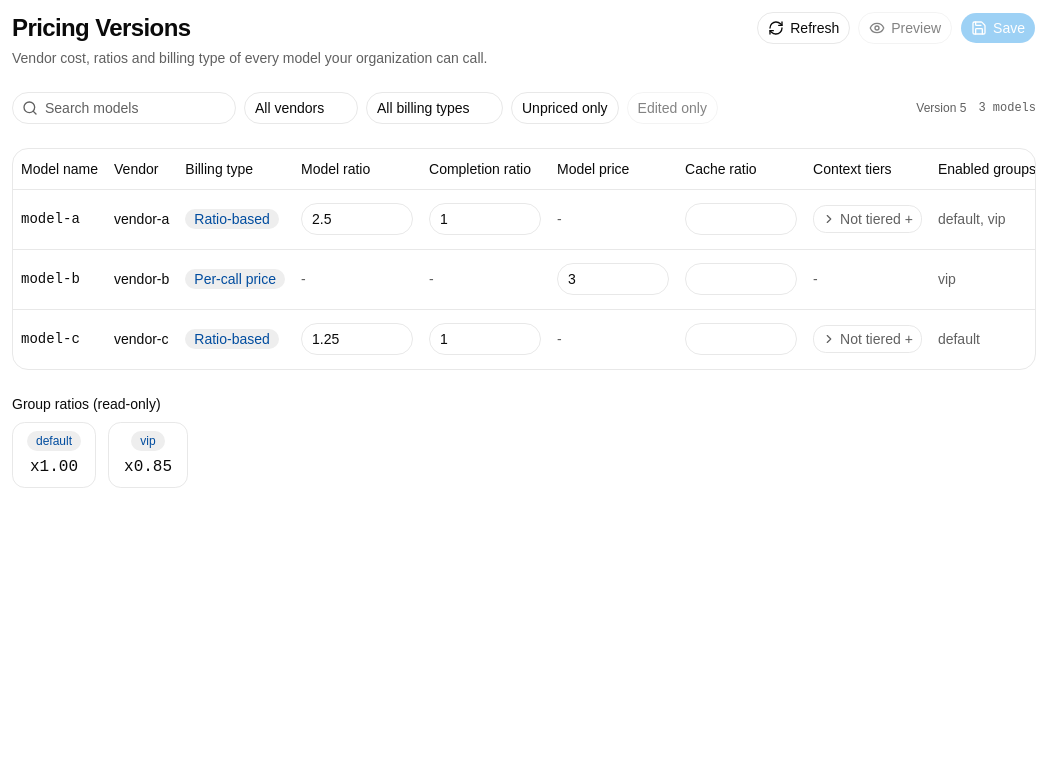
Scenario: loading › a failed refresh keeps the table and says so
expect the table with test id "pricing-table" shows "model-a": met, box [21,211,80,227]
Step 1. Click the button with test id "pricing-refresh" → (804, 28), box [757,12,850,44]
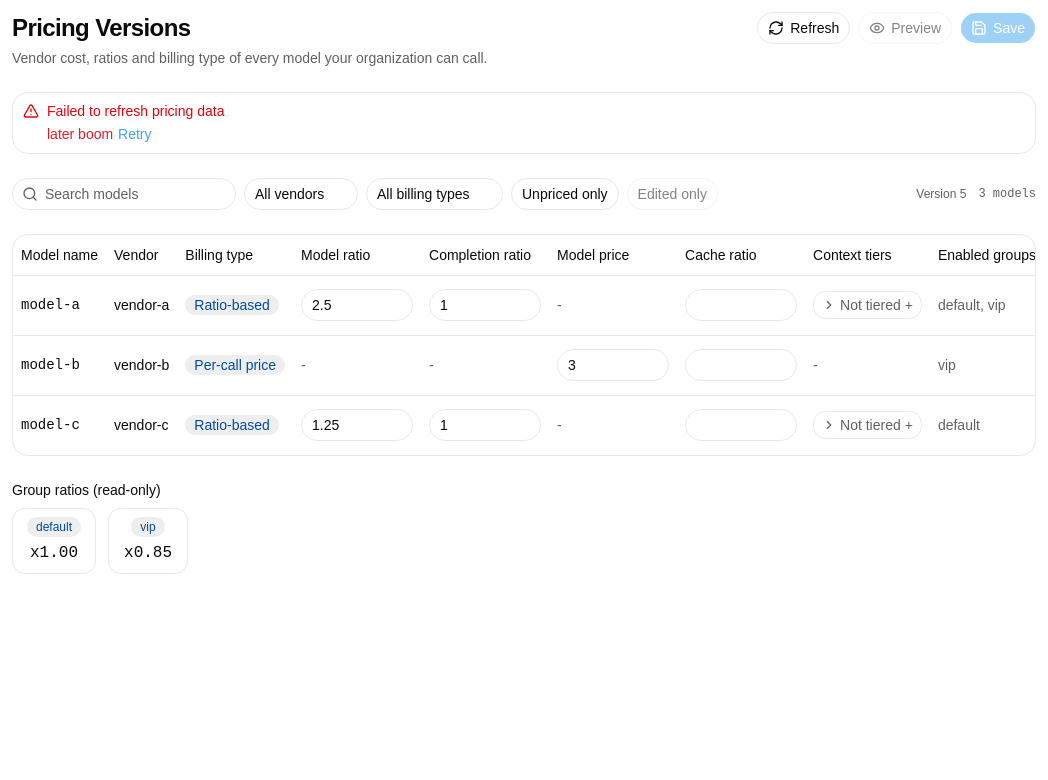
expect the table with test id "pricing-table" shows "model-a": met, box [21,297,80,313]
expect the message with test id "pricing-refresh-error" shows "later boom": met, box [47,126,113,142]
